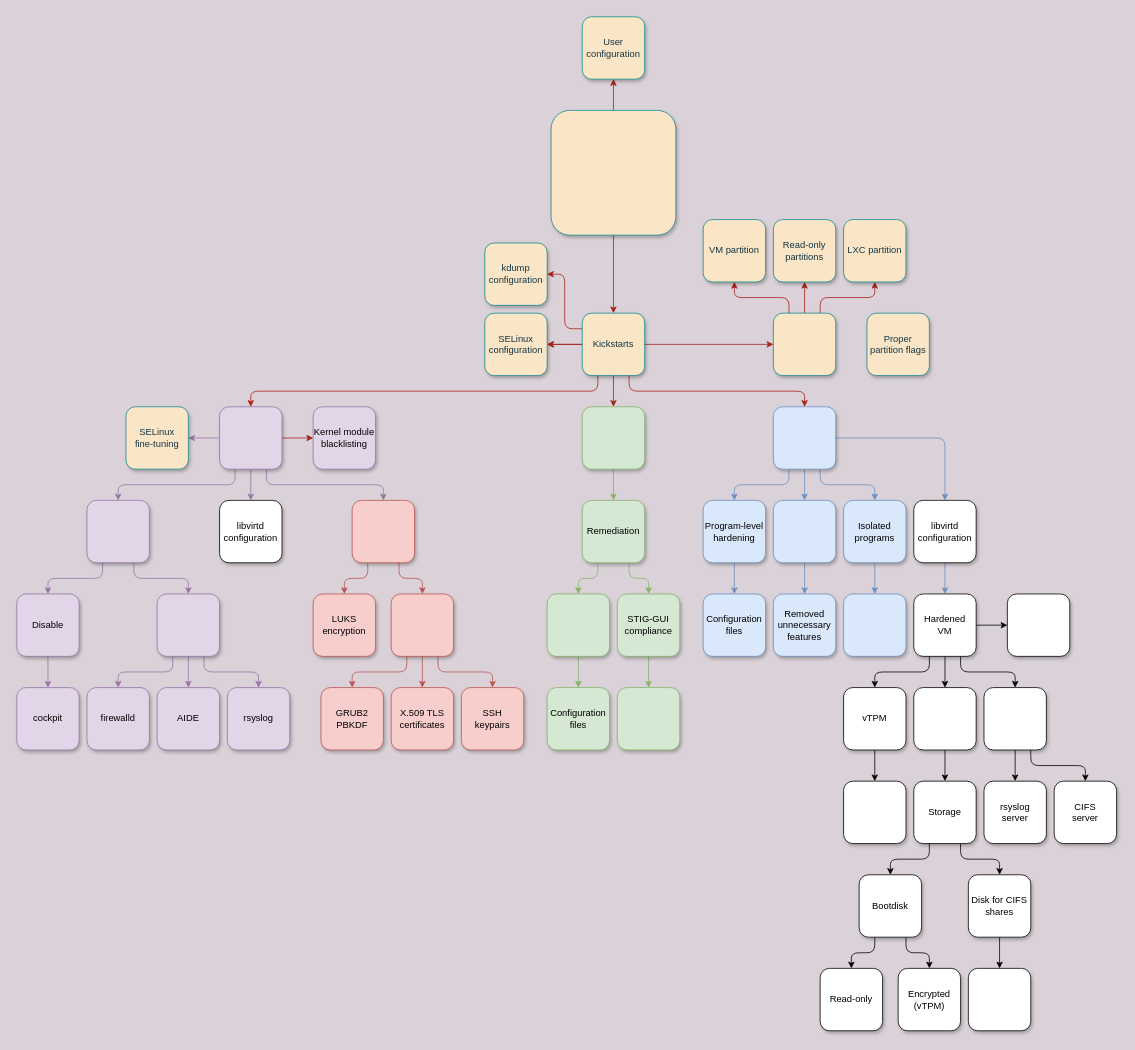
Some shapes in this 1135 by 1050 pixel diagram are drawn without their labels. Here are the shapes that lost their labels. From the top down, the centre of each, then its label:
At point (614, 173): "SEALFAIL security".
At point (804, 345): "Partitioning".
At point (251, 439): "Extra security".
At point (613, 439): "OpenSCAP".
At point (804, 439): "RPM packages".
At point (118, 532): "Daemons".
At point (383, 532): "TPM configuration".
At point (804, 532): "Custom hardened kernel".
At point (188, 626): "Enable".
At point (422, 626): "Secret generation".
At point (578, 626): "daemon-level hardening".
At point (875, 626): "Run programs within unprivileged LXC".
At point (1038, 626): "Networking (host-only)".
At point (648, 719): "Scheduled compliance checks".
At point (945, 719): "VirtIO".
At point (1015, 719): "Services".
At point (875, 813): "UEFI keys".
At point (999, 1000): "Encrypted (user passphrase)".
